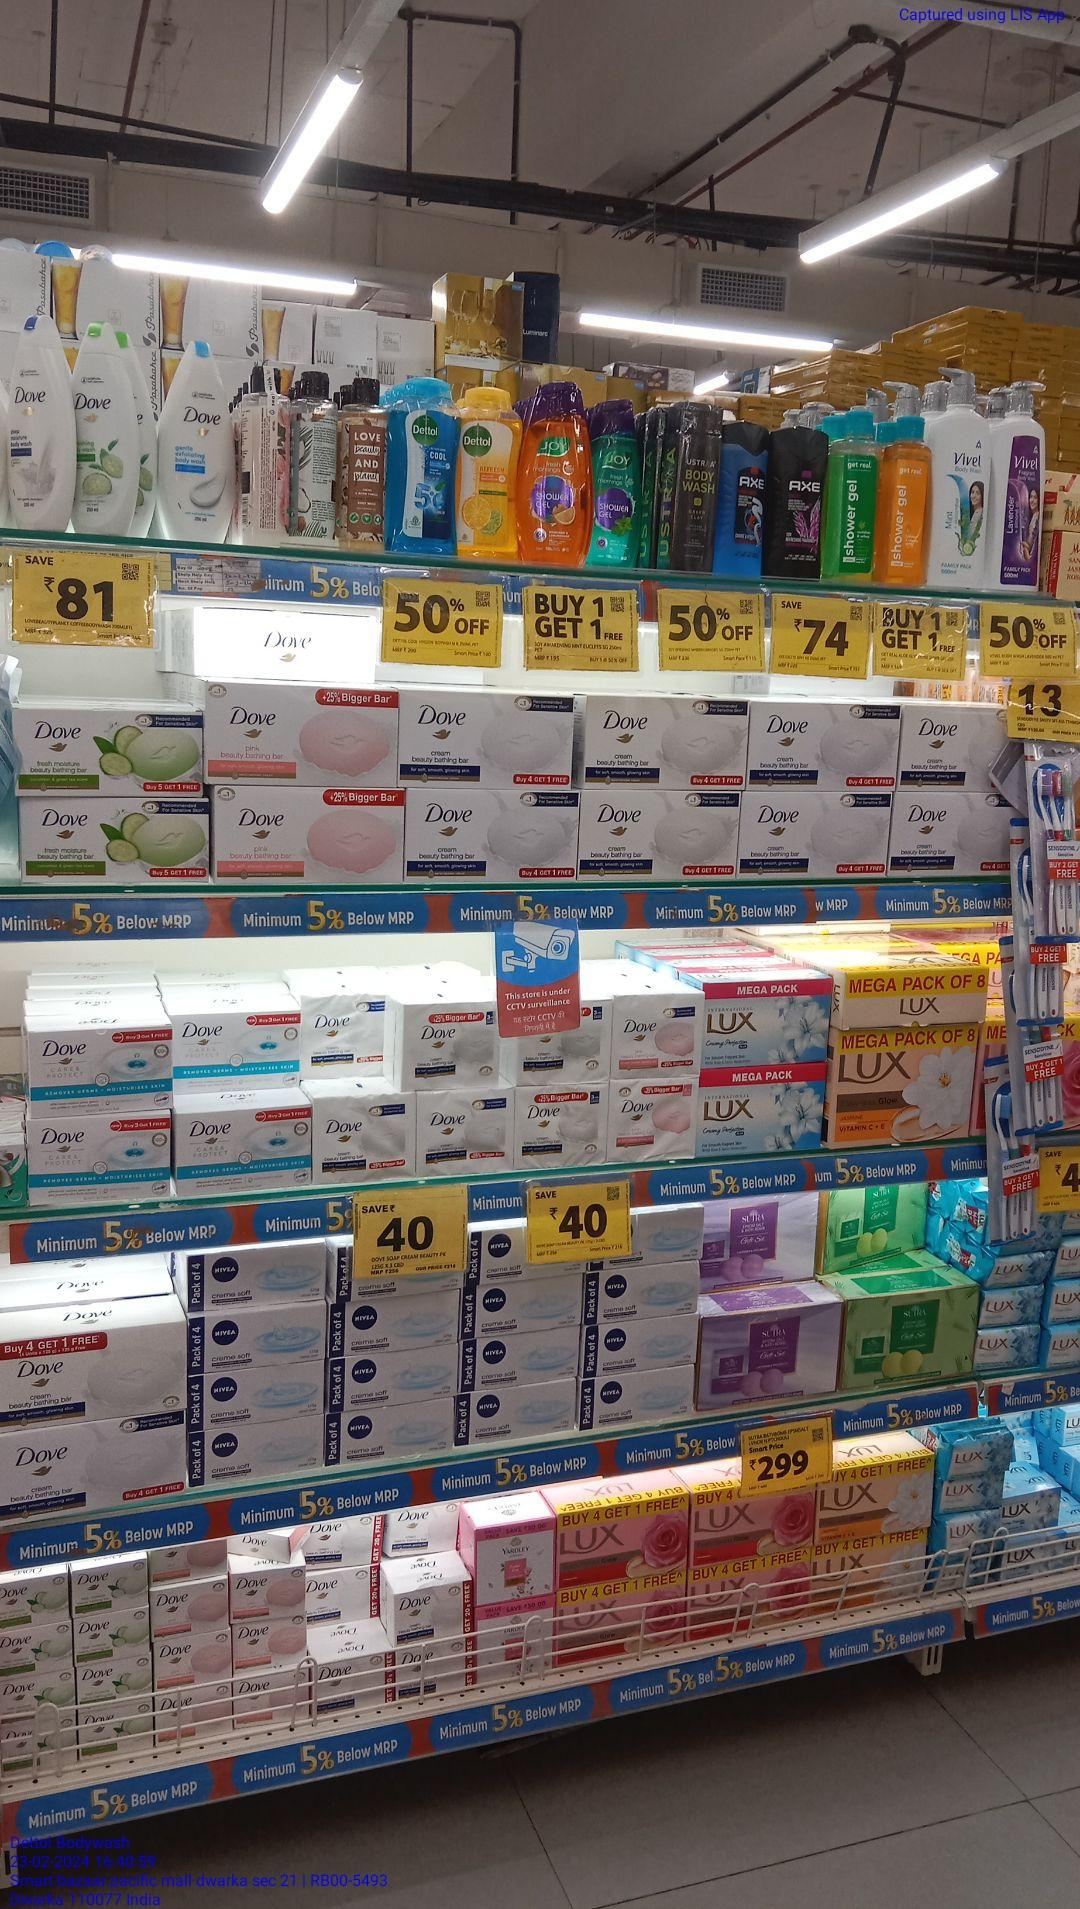Dettol_Bodywash_Cool: (393, 376, 459, 557)
Dettol_Bodywash_Refresh: (459, 389, 522, 560)
Dove_Deep_Moisture_Body_Wash_250ML: (3, 321, 75, 526)
Dove_Gentle_Exfoliating_Body_Wash_250ML: (160, 344, 229, 543)
Joy_Shower_Gel_Mandarin_and_Lemongrass_250ML: (523, 385, 588, 565)
Joy_Shower_Gel_Mint_and_Eucalyptus_250ML: (591, 400, 641, 565)
